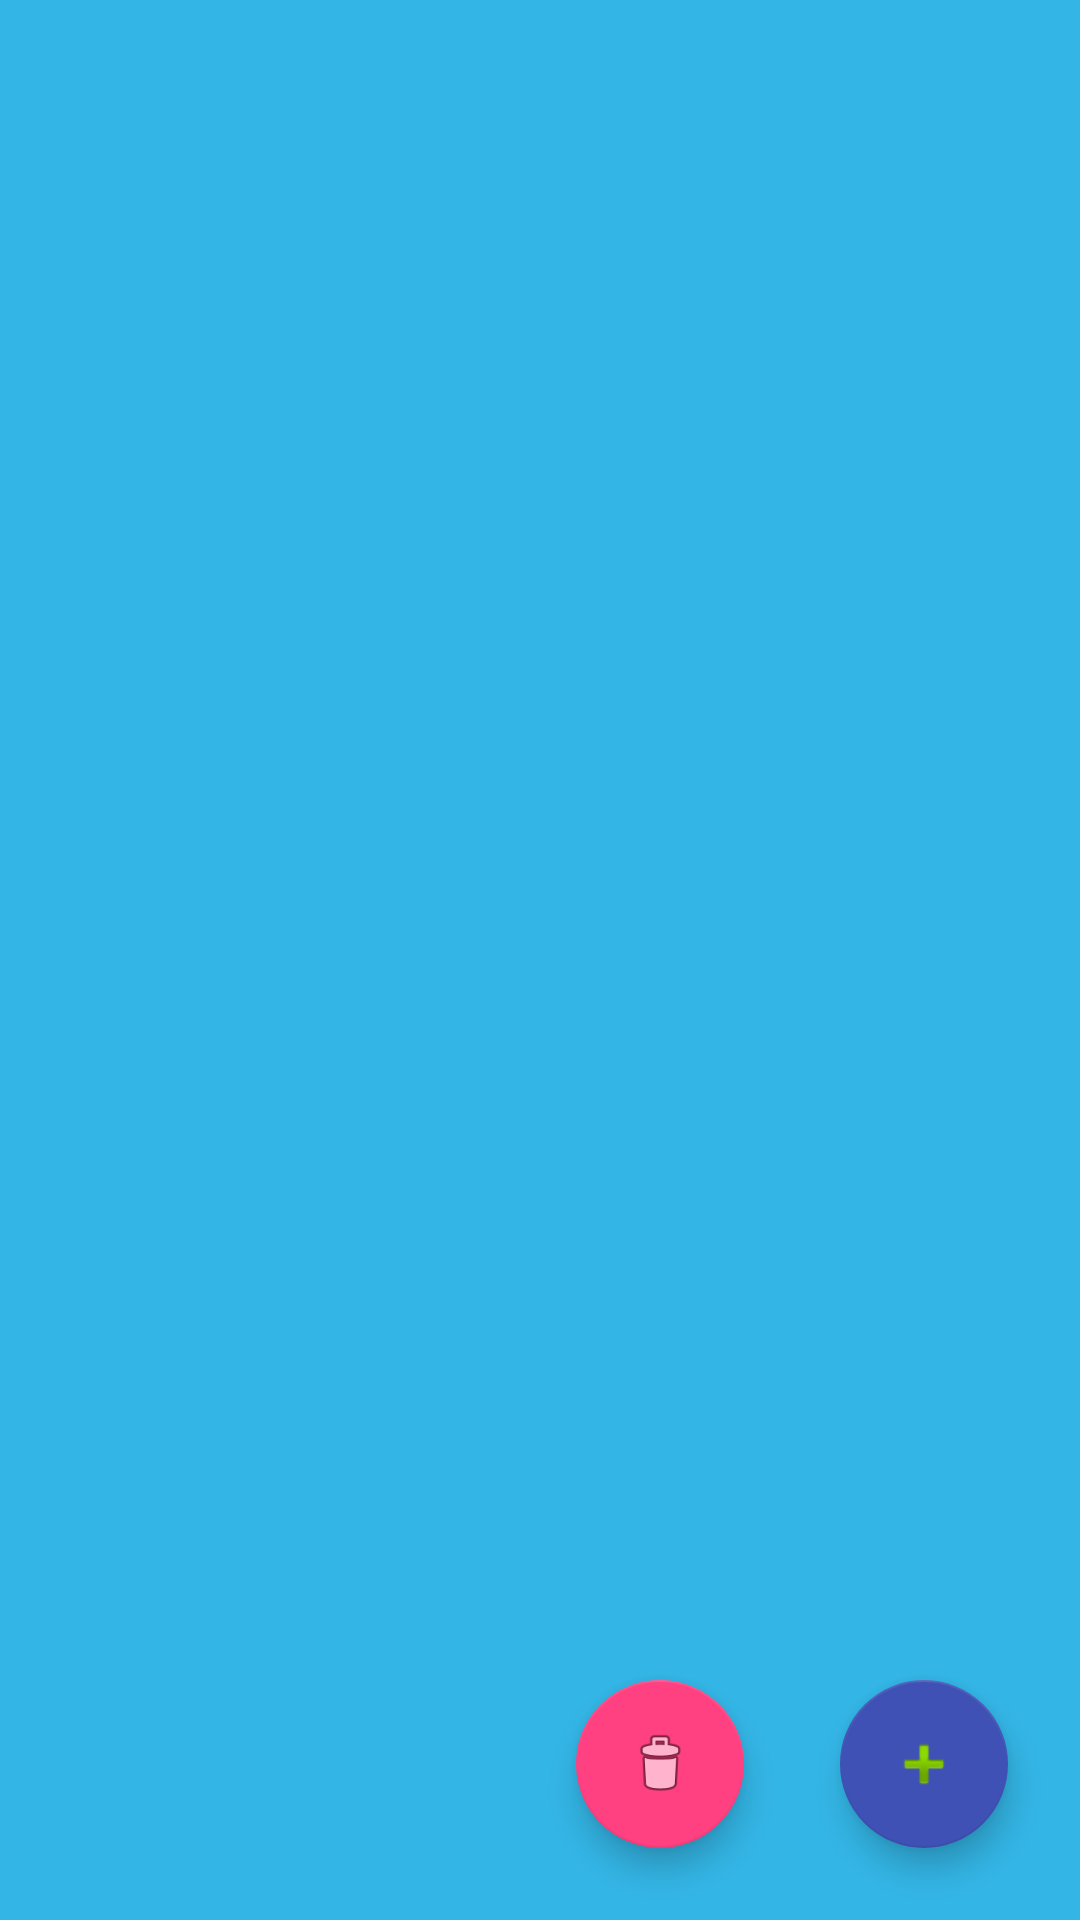

Where to tap for icons on this 1080px x 1920px app screen, as point (x, y):
add: point (924, 1764)
delete: point (660, 1764)
